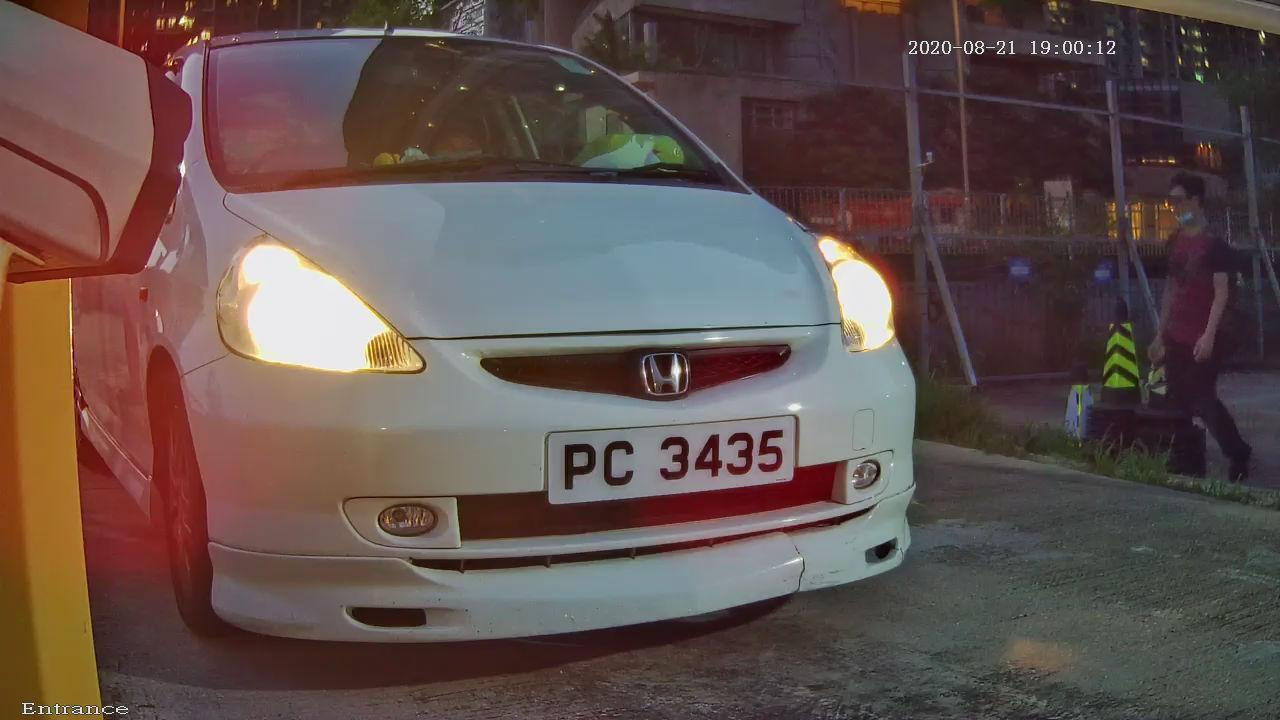Car: (18, 7, 1035, 704)
License Plate: (532, 399, 812, 512)
